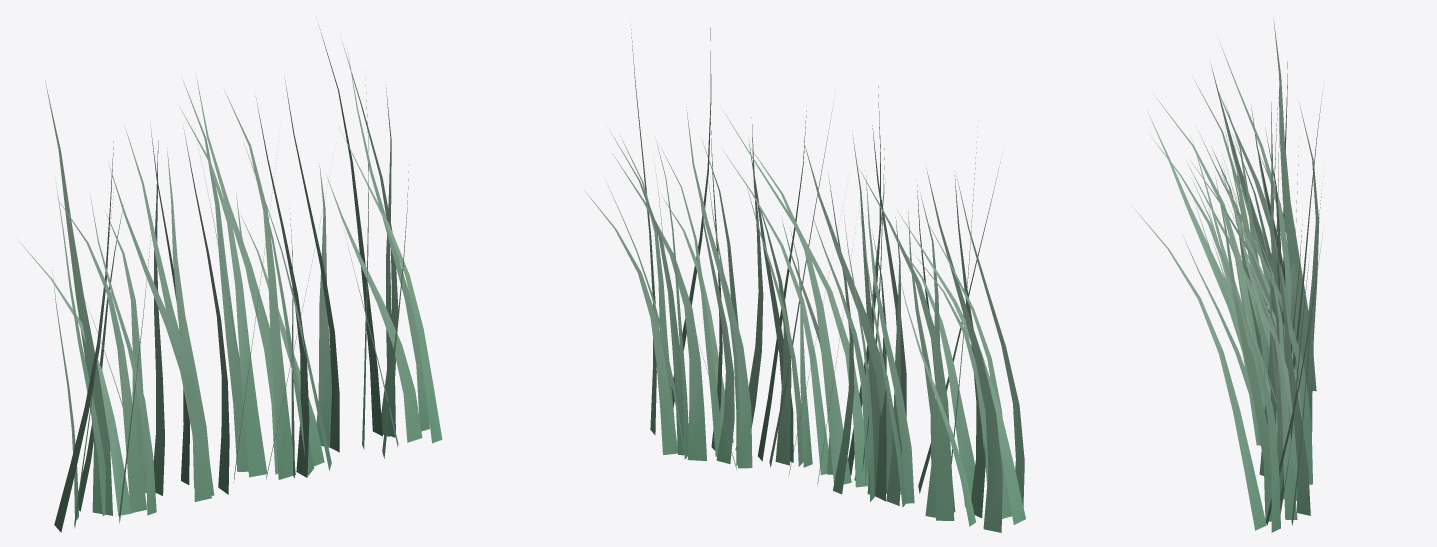
File: mesh-plant-007-dusky-eelgrass_LOD1.glb
3 renders of one model, left to right at view 1: azimuth 30°, elevation 25°; view 2: azimuth 150°, elevation 25°; view 3: azimuth 270°, elevation 25°, orthographic. The views are drawn at different scales.
Visible parts, largest first — view 1: geometry_0; view 2: geometry_0; view 3: geometry_0.
Boxes of the visible parts, x1=… form: geometry_0: x1=16, y1=25, x2=442, y2=532; geometry_0: x1=584, y1=25, x2=1025, y2=532; geometry_0: x1=1132, y1=17, x2=1323, y2=532.
Size of the model in its own units: 2.39 by 1.86 by 1.35.
